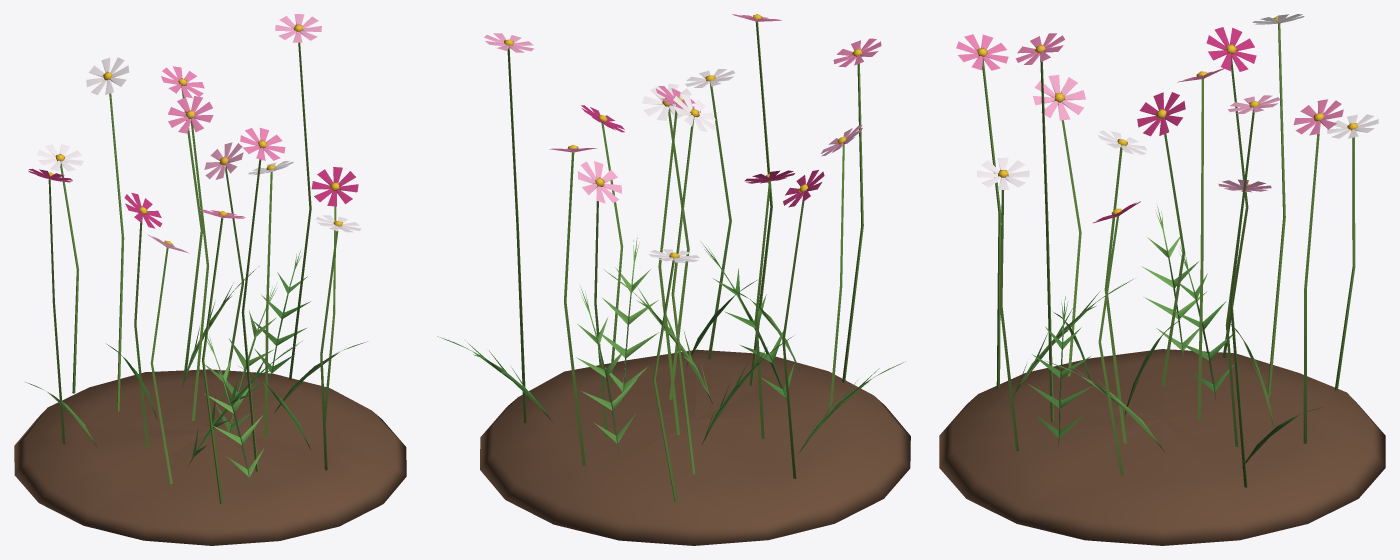
The model's file is cosmos.glb.
3 views of the same model, side by side, from view 1: azimuth 30°, elevation 25°; view 2: azimuth 150°, elevation 25°; view 3: azimuth 270°, elevation 25° (orthographic). The views are drawn at different scales.
Parts seen in each view (by area): view 1: cosmos; view 2: cosmos; view 3: cosmos.
Part boxes in pixels (x1,y1,x2,y2): cosmos: [14, 14, 406, 545]; cosmos: [437, 14, 910, 545]; cosmos: [939, 14, 1385, 545].
Bounding box in the file's own units: 0.885 × 0.879 × 0.84.
